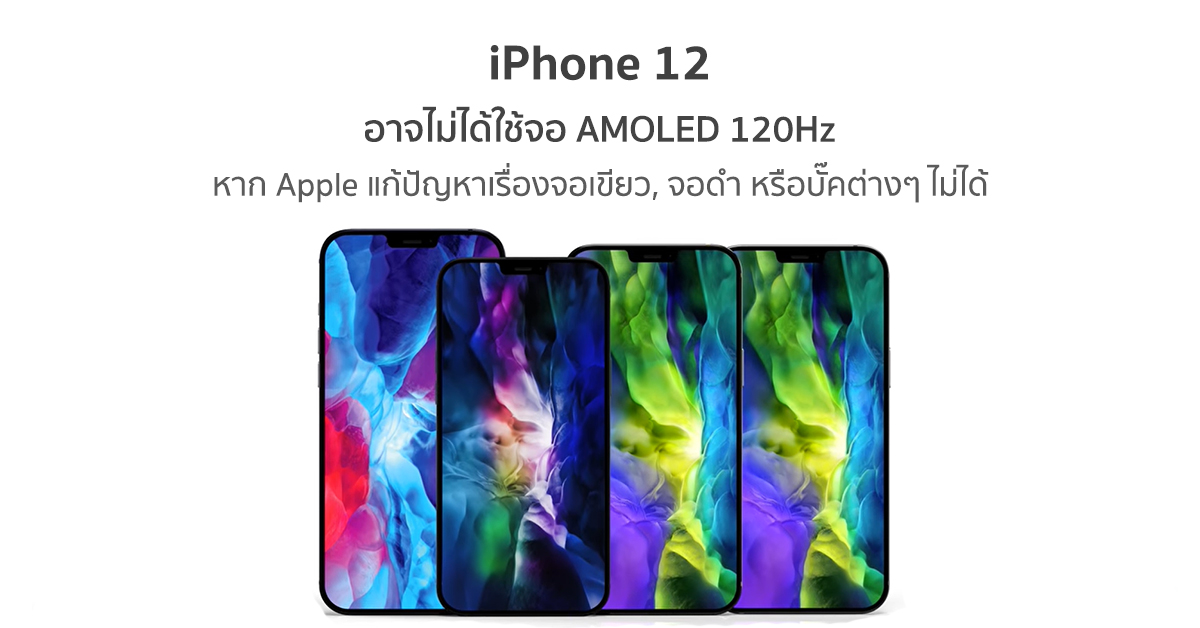Phone: (315, 225, 511, 615), (565, 241, 744, 619), (431, 254, 613, 620), (722, 241, 891, 616)
